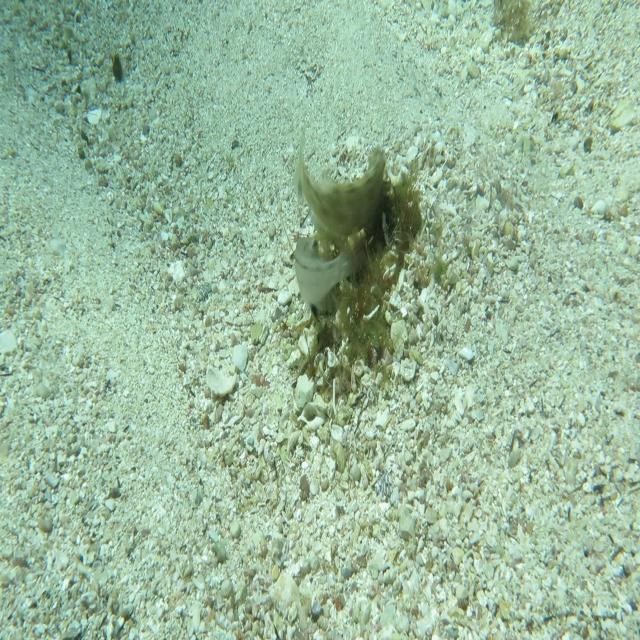SPA: (292, 130, 387, 238)
core_nest: (358, 198, 408, 246)
female: (294, 224, 368, 320)
nest: (303, 163, 427, 391)
